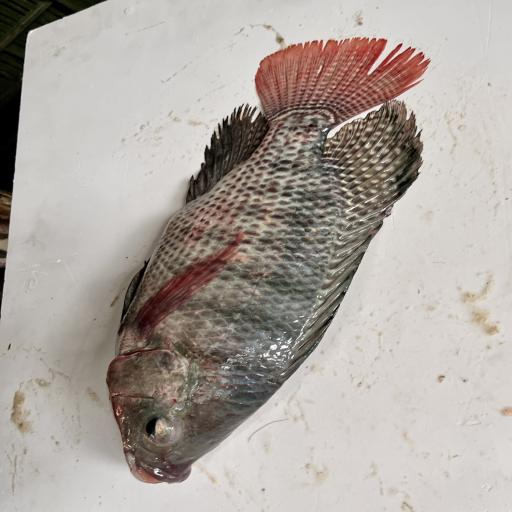Tilapia: (106, 36, 431, 484)
